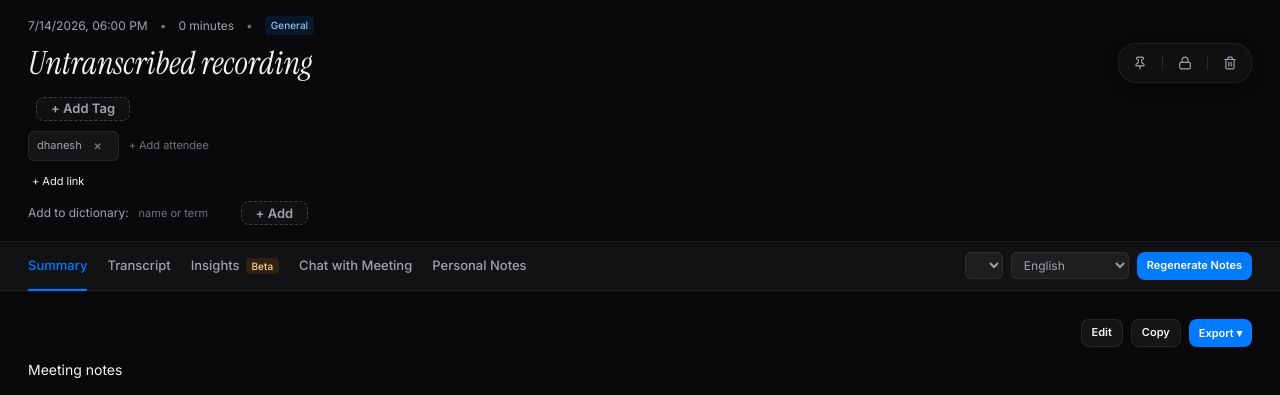
it: NoteViewer attendee rename › cancels the attendee rename on Escape
This screenshot has width=1280, height=395.
Click the button with aria-label "Rename dhanesh": coordinates (59, 146) [37, 137, 82, 154]
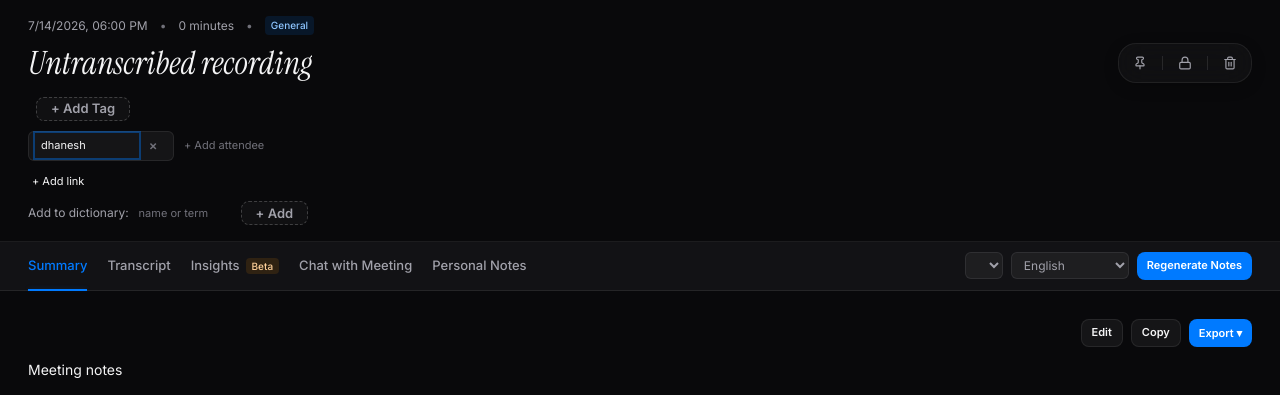
Replace the text in the field named "Rename dhanesh" with "Danish": coordinates (87, 146) [37, 135, 137, 156]
Then press Escape
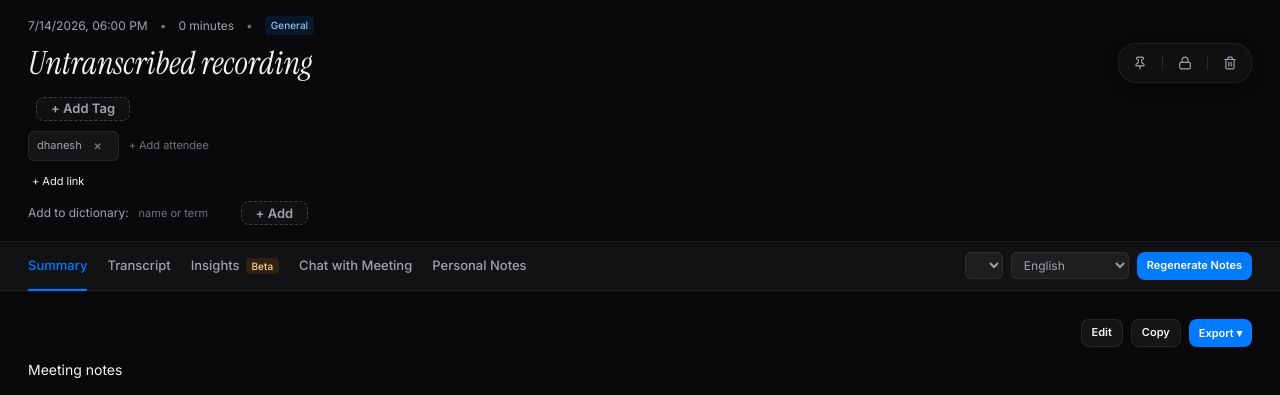
Expected: the button with aria-label "Rename dhanesh" reads "dhanesh", [37, 137, 82, 154]
